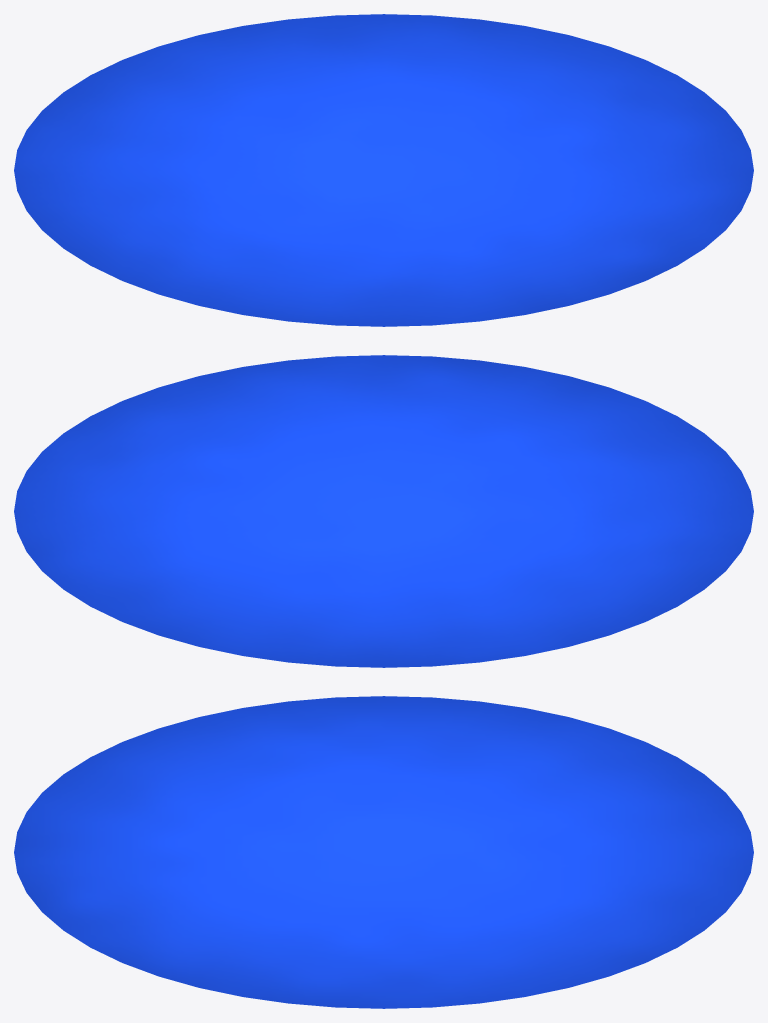
The model's file is mm6_deco_barrel_liquid_blue.glb.
3 views of the same model, one above another, from view 1: azimuth 30°, elevation 25°; view 2: azimuth 150°, elevation 25°; view 3: azimuth 270°, elevation 25° (orthographic).
Parts seen in each view (by area): view 1: Liquid; view 2: Liquid; view 3: Liquid.
Boxes of the visible parts, x1,y1,x2,y2 form: Liquid: (14,14,753,326); Liquid: (14,355,753,667); Liquid: (14,696,753,1008).
Bounding box in the file's own units: 0.529 × 0 × 0.529.
1 material, 1 textured.
